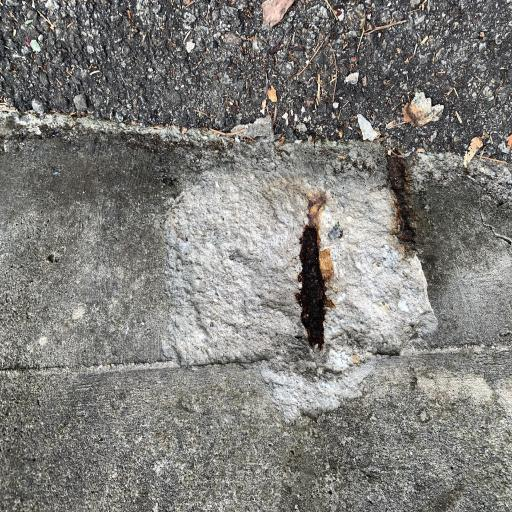exposed_rebar: (296, 226, 326, 350)
spalling: (162, 146, 437, 419)
